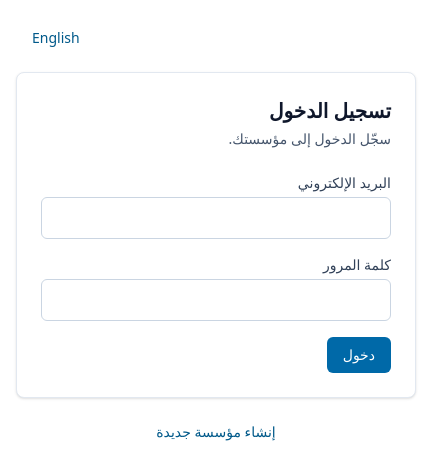
RTL layout › offers the language toggle before sign-in
Step 1. Click the button with test id "language-toggle" → point(56, 38), box [16, 20, 96, 56]
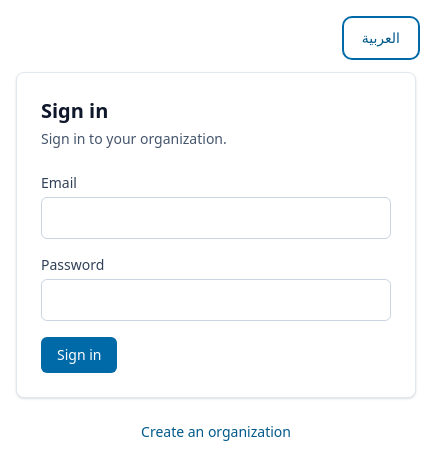
Result: the button with test id "language-toggle" reads "العربية" at [346, 20, 416, 56]
